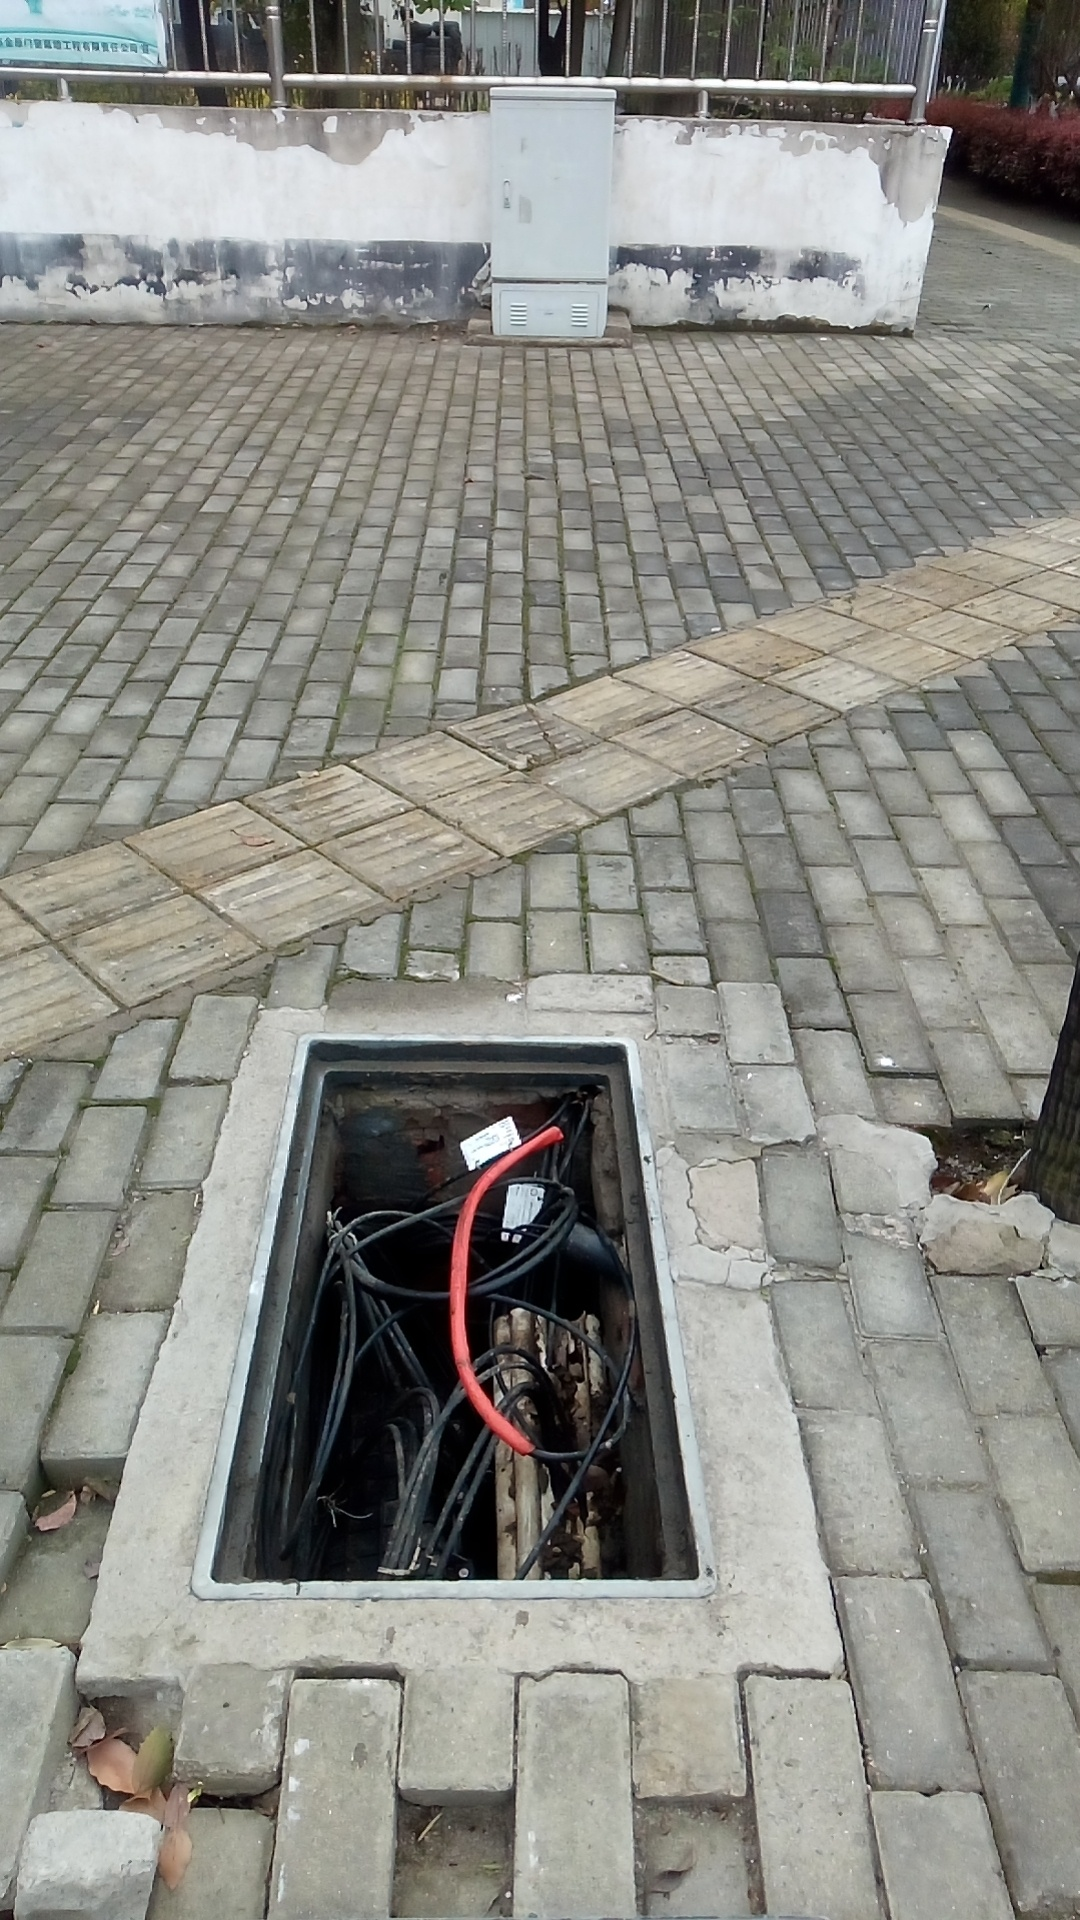well: (194, 1033, 708, 1607)
